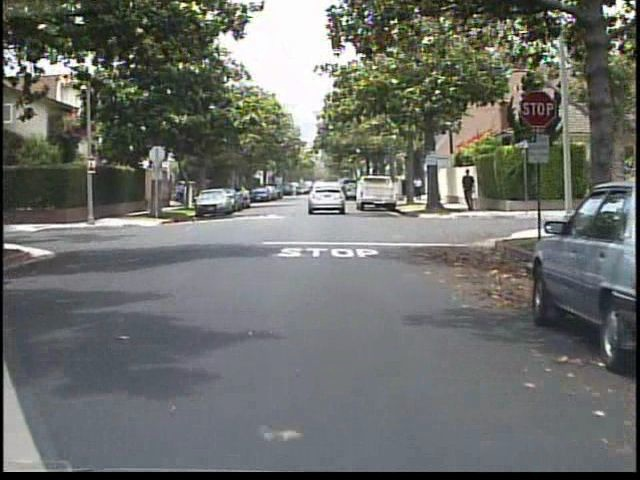person: (460, 166, 480, 215), (174, 179, 190, 208), (414, 172, 426, 202)
